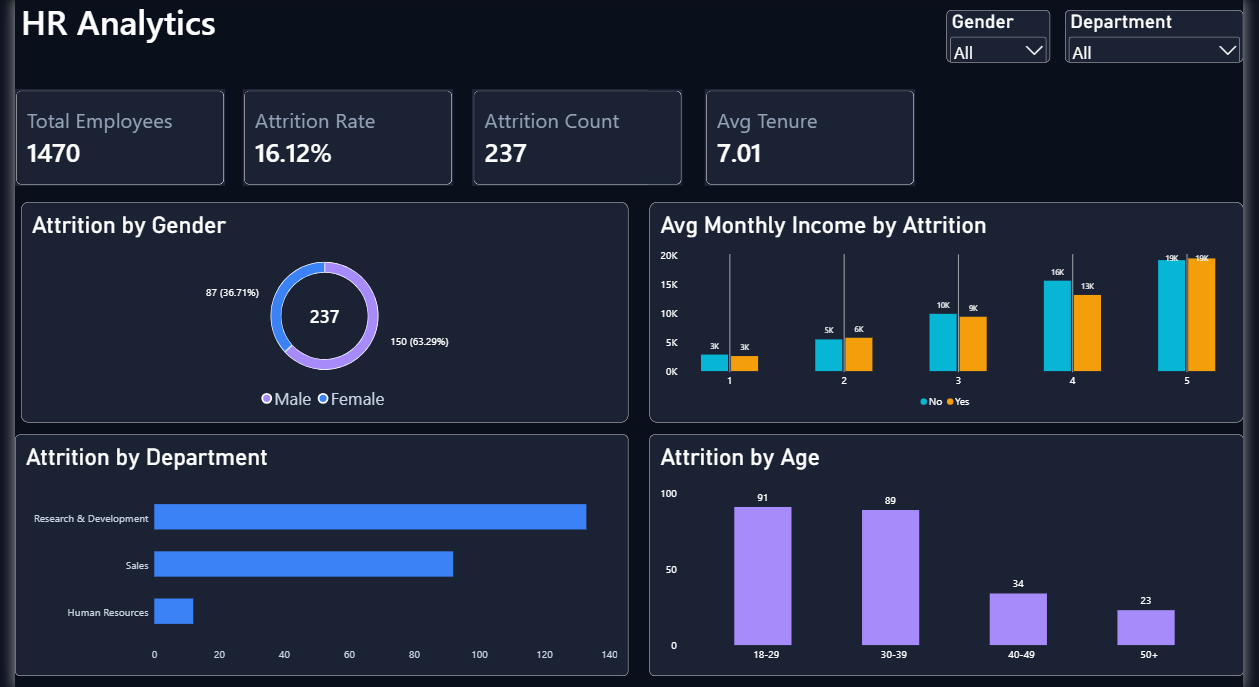

The page's visual inventory and layout, read from the dashboard file:
{"tool":"powerbi","page":{"name":"Page 1","canvas":[1920,1080],"ordinal":0},"visuals":[{"type":"textbox","box":[9.4,0,328.2,82.1],"z":0},{"type":"cardVisual","fields":{"Data":["HR Analytics.Total Employees"]},"box":[0,143,328,150],"z":1},{"type":"cardVisual","fields":{"Data":["HR Analytics.Attrition Rate"]},"box":[356.4,143,328,150],"z":2},{"type":"cardVisual","fields":{"Data":["HR Analytics.Attrition Count"]},"box":[715.1,143,328,150],"z":3},{"type":"cardVisual","fields":{"Data":["HR Analytics.Avg Tenure"]},"box":[1078.5,143,328,150],"z":4},{"type":"clusteredBarChart","title":"Attrition by Department","fields":{"Category":["HR Analytics.Department"],"Y":["HR Analytics.Attrition Count"]},"box":[0,682.2,958.9,377.5],"z":5},{"type":"clusteredColumnChart","title":"Attrition by Age","fields":{"Category":["HR Analytics.Age Group"],"Y":["HR Analytics.Attrition Count"]},"box":[991.7,682.2,928.4,377.5],"z":6},{"type":"donutChart","title":"Attrition by Gender","fields":{"Category":["HR Analytics.Gender"],"Y":["HR Analytics.Attrition Count"]},"box":[9.4,318.8,949.5,344.6],"z":7},{"type":"clusteredColumnChart","title":"Avg Monthly Income by Attrition","fields":{"Category":["HR Analytics.JobLevel"],"Series":["HR Analytics.Attrition"],"Y":["Avg(HR Analytics.MonthlyIncome)"]},"box":[991.7,318.8,928.4,344.6],"z":8},{"type":"slicer","fields":{"Values":["HR Analytics.Department"]},"box":[1641.1,18.8,279,82.1],"z":9},{"type":"slicer","fields":{"Values":["HR Analytics.Gender"]},"box":[1455.9,18.8,161.8,82.1],"z":10}]}

Visuals, with their boxes on the page's 1920x1080 design canvas (x1, y1, x2, y2). These are canvas units, not pixel positions in the 1259x687 screenshot, which may show the page scaled, cropped or inside an application window:
textbox: [x1=9, y1=0, x2=338, y2=82]
cardVisual - HR Analytics.Total Employees: [x1=0, y1=143, x2=328, y2=293]
cardVisual - HR Analytics.Attrition Rate: [x1=356, y1=143, x2=684, y2=293]
cardVisual - HR Analytics.Attrition Count: [x1=715, y1=143, x2=1043, y2=293]
cardVisual - HR Analytics.Avg Tenure: [x1=1078, y1=143, x2=1406, y2=293]
"Attrition by Department" clusteredBarChart: [x1=0, y1=682, x2=959, y2=1060]
"Attrition by Age" clusteredColumnChart: [x1=992, y1=682, x2=1920, y2=1060]
"Attrition by Gender" donutChart: [x1=9, y1=319, x2=959, y2=663]
"Avg Monthly Income by Attrition" clusteredColumnChart: [x1=992, y1=319, x2=1920, y2=663]
slicer - HR Analytics.Department: [x1=1641, y1=19, x2=1920, y2=101]
slicer - HR Analytics.Gender: [x1=1456, y1=19, x2=1618, y2=101]
